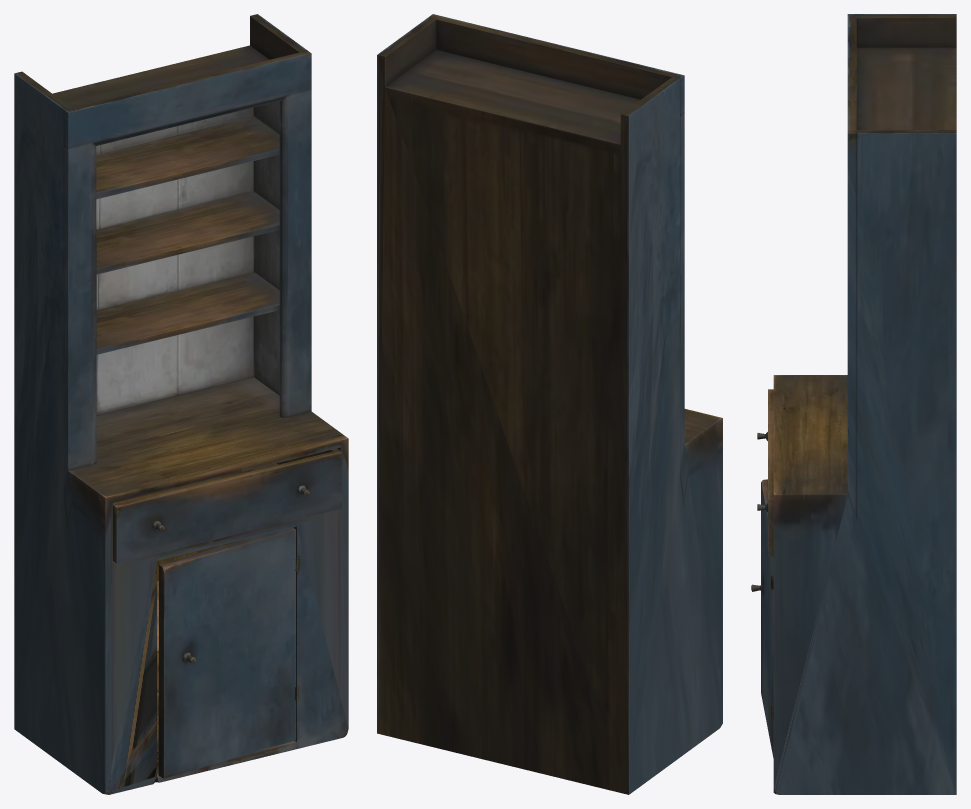
The model's file is painted-wooden-cabinet-02.glb.
3 views of the same model, side by side, from view 1: azimuth 30°, elevation 25°; view 2: azimuth 150°, elevation 25°; view 3: azimuth 270°, elevation 25° (orthographic). The views are drawn at different scales.
Visible parts, largest first — view 1: painted_wooden_cabinet_02; view 2: painted_wooden_cabinet_02; view 3: painted_wooden_cabinet_02.
Part boxes in pixels (x1,y1,x2,y2): painted_wooden_cabinet_02: (14,14,348,794); painted_wooden_cabinet_02: (377,14,722,794); painted_wooden_cabinet_02: (751,14,956,794).
Size of the model in its own units: 0.9969 by 2.57 by 0.7222.
1 material, 1 textured.
